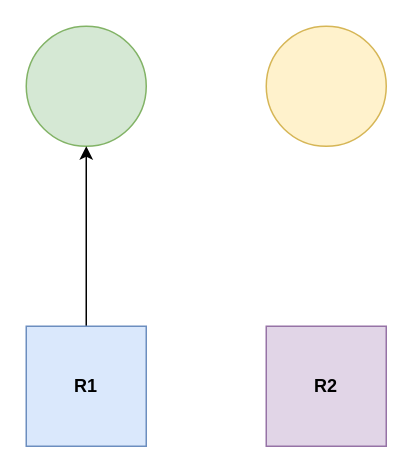
Some shapes in this 413 by 473 pixel diagram are drawn without their labels. The shapes that lost their labels are listed below. From the top down, each one's centre as x and y in pixels, then its label:
At (x=85, y=85): "P1".
At (x=325, y=85): "P2".
